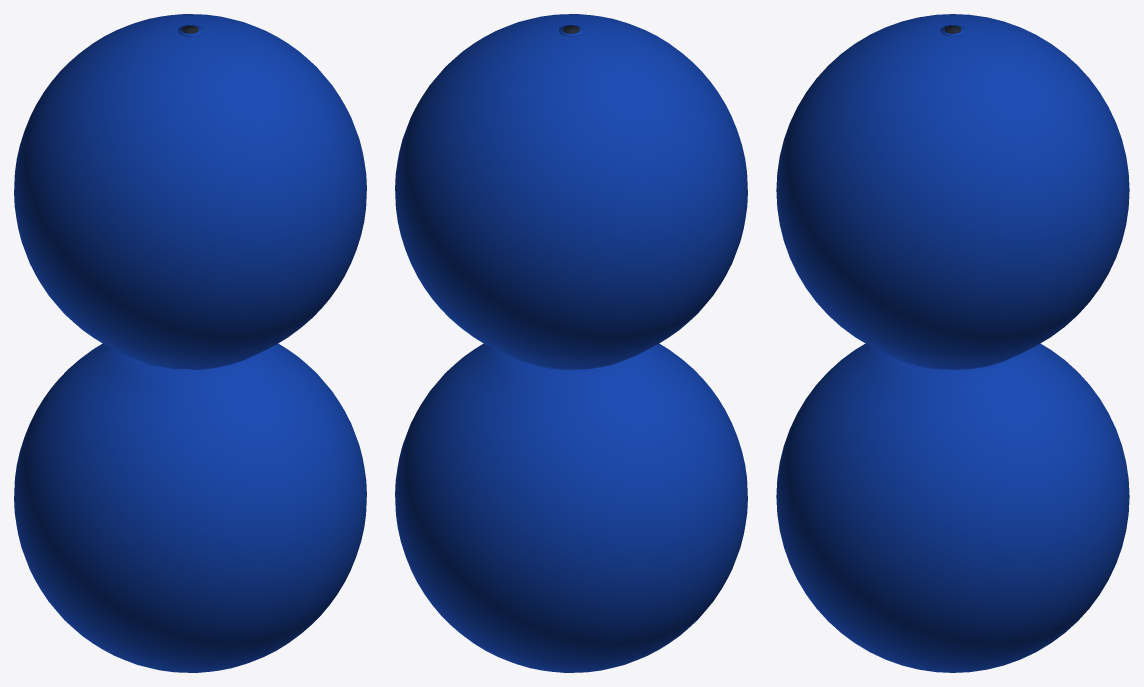
File: double-contact-ball.glb
3 renders of one model, left to right at view 1: azimuth 30°, elevation 25°; view 2: azimuth 150°, elevation 25°; view 3: azimuth 270°, elevation 25°, orthographic.
Parts seen in each view (by area): view 1: TKA_DoubleContactBall_Positive_Shell, TKA_DoubleContactBall_Negative_Shell; view 2: TKA_DoubleContactBall_Positive_Shell, TKA_DoubleContactBall_Negative_Shell; view 3: TKA_DoubleContactBall_Positive_Shell, TKA_DoubleContactBall_Negative_Shell.
Boxes of the visible parts, box(x1,y1,x2,y2) form: TKA_DoubleContactBall_Positive_Shell: box(14, 14, 366, 369); TKA_DoubleContactBall_Negative_Shell: box(14, 343, 366, 672); TKA_DoubleContactBall_Positive_Shell: box(395, 14, 747, 369); TKA_DoubleContactBall_Negative_Shell: box(395, 343, 747, 672); TKA_DoubleContactBall_Positive_Shell: box(776, 14, 1129, 369); TKA_DoubleContactBall_Negative_Shell: box(776, 343, 1129, 672).
Bounding box in the file's own units: 0.115 × 0.2257 × 0.115.
